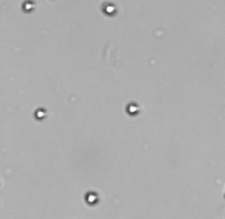Living Cell: (102, 3, 118, 15), (126, 102, 140, 115), (84, 192, 99, 204), (34, 108, 47, 119), (22, 1, 34, 11)
